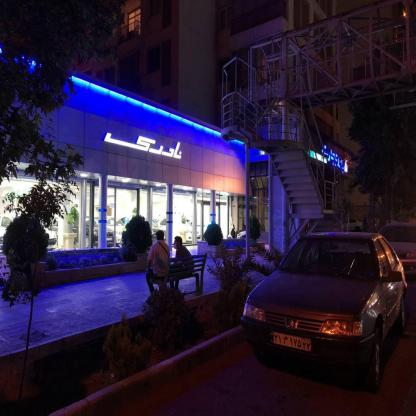Car: (221, 219, 407, 381)
